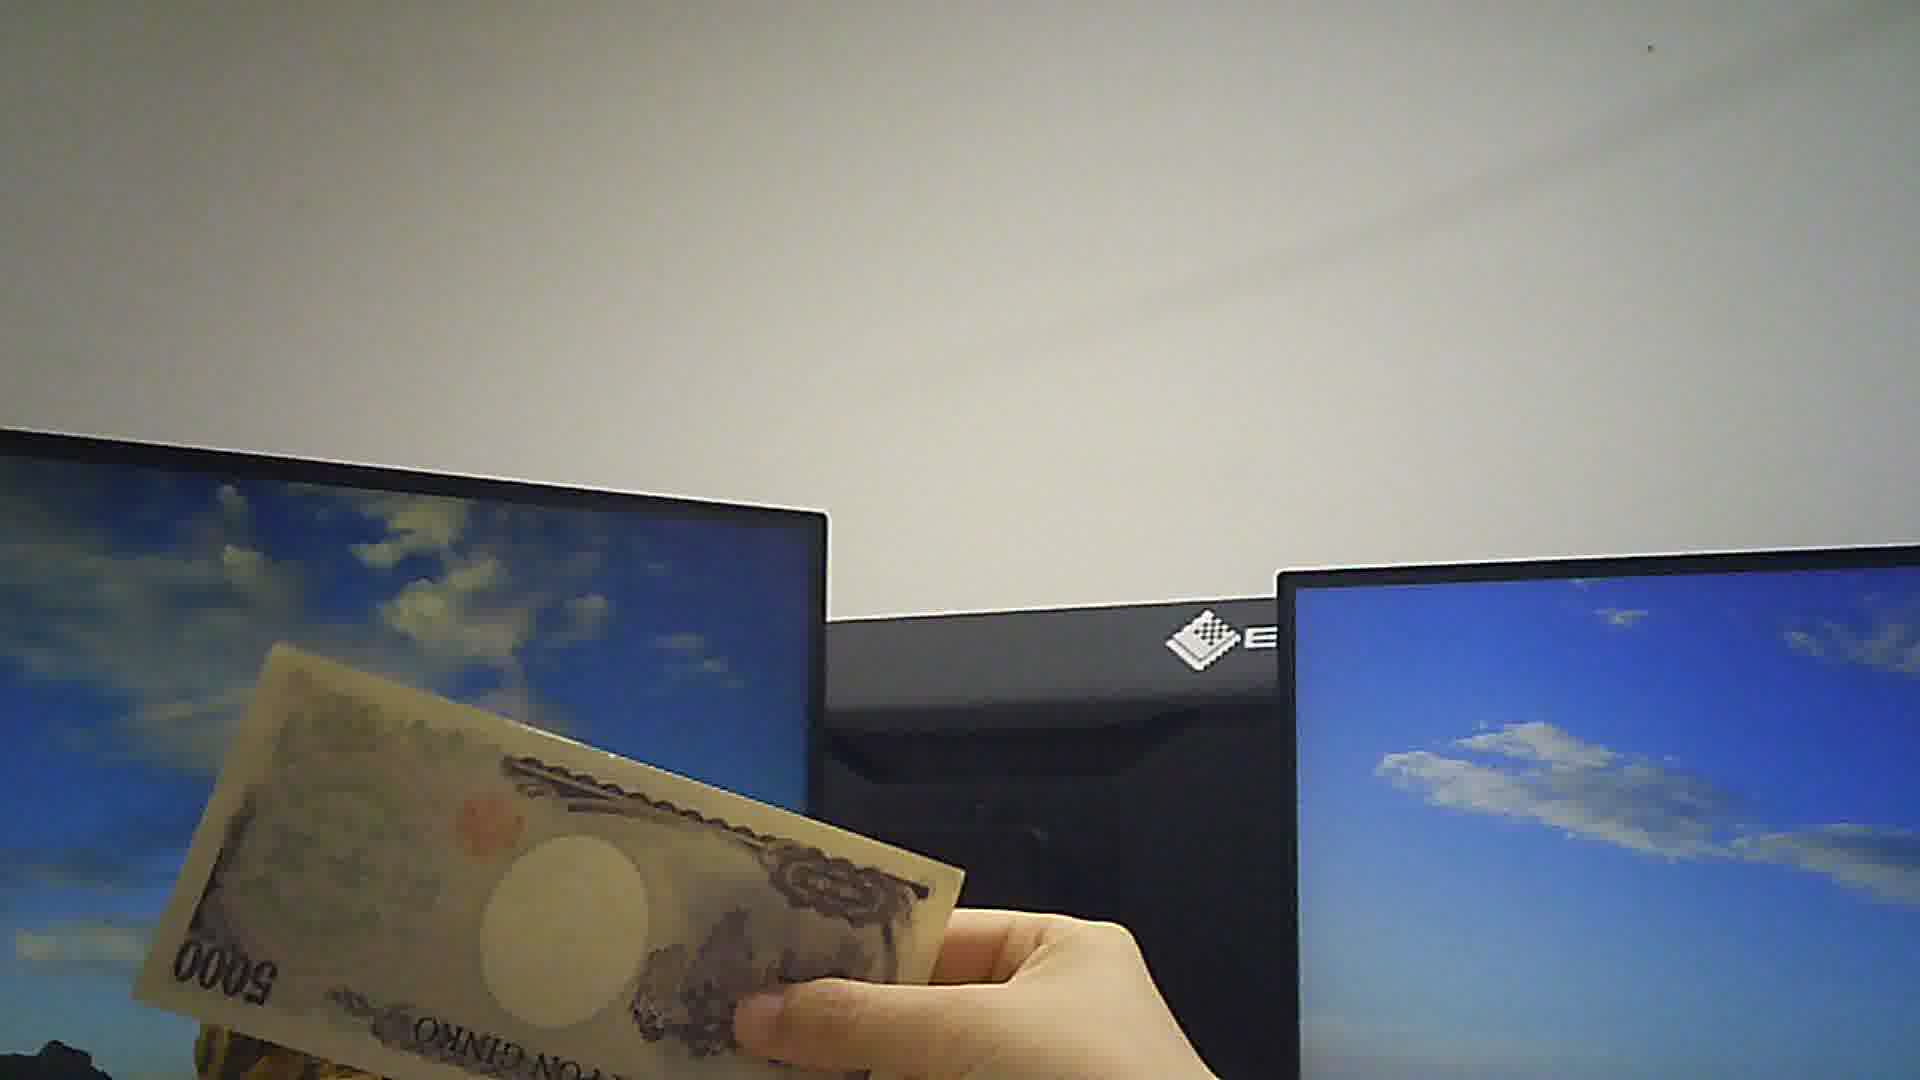5,000 Yen: (127, 647, 961, 1079)
